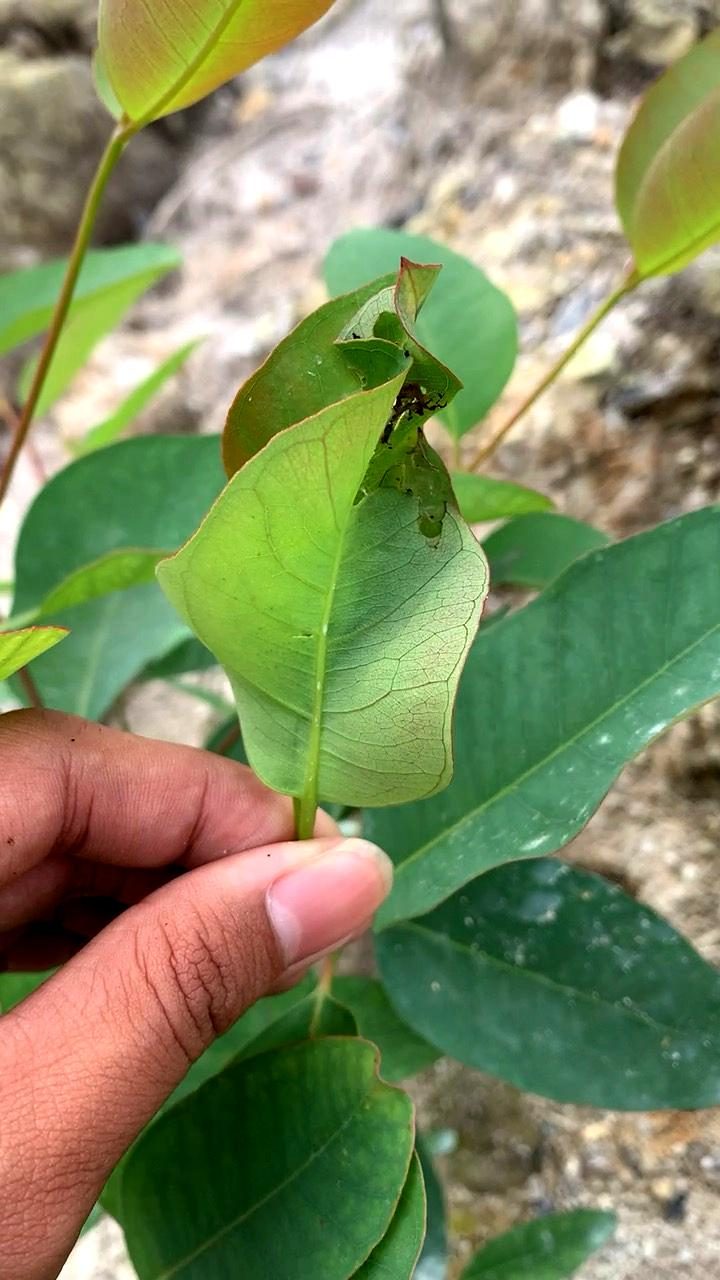Leaf Roller - Leaf: (135, 243, 530, 838)
